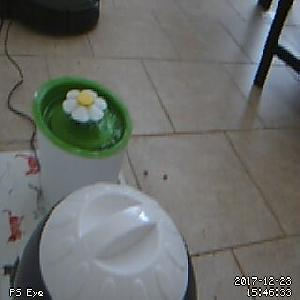fountain: (33, 74, 132, 159)
